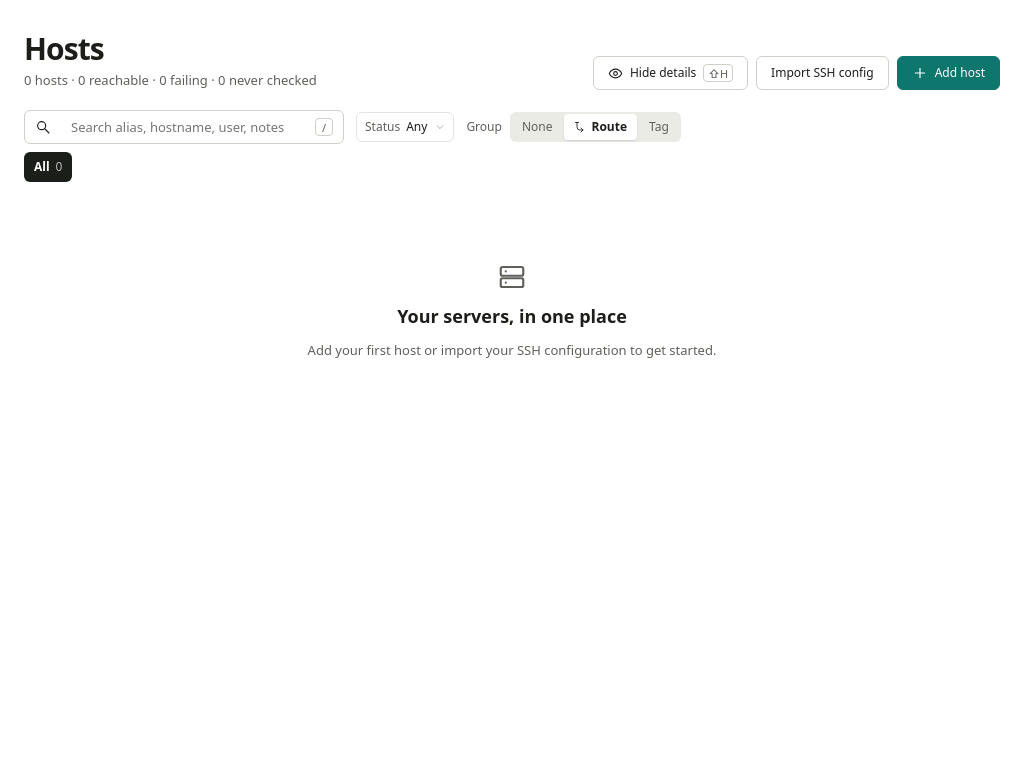
Test: shows authentication fallback warnings before the user applies an import
Click the button "Import SSH config".
click(822, 73)  # box [756, 56, 889, 90]
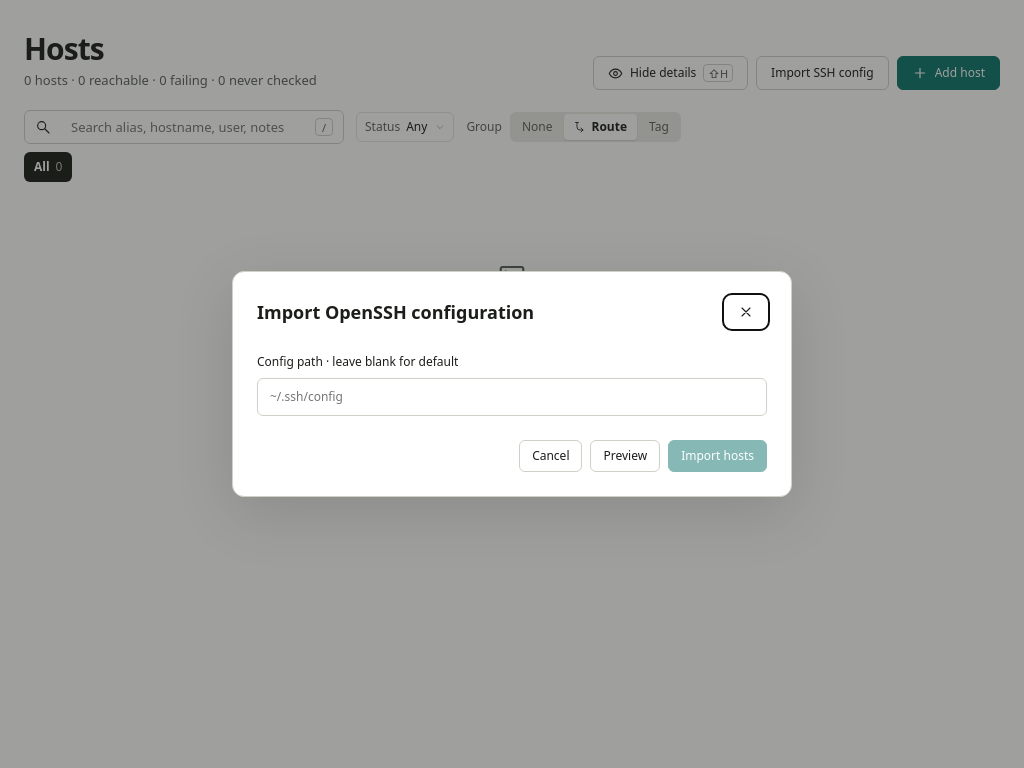
Click the button "Preview".
click(625, 456)  # box [590, 440, 660, 472]
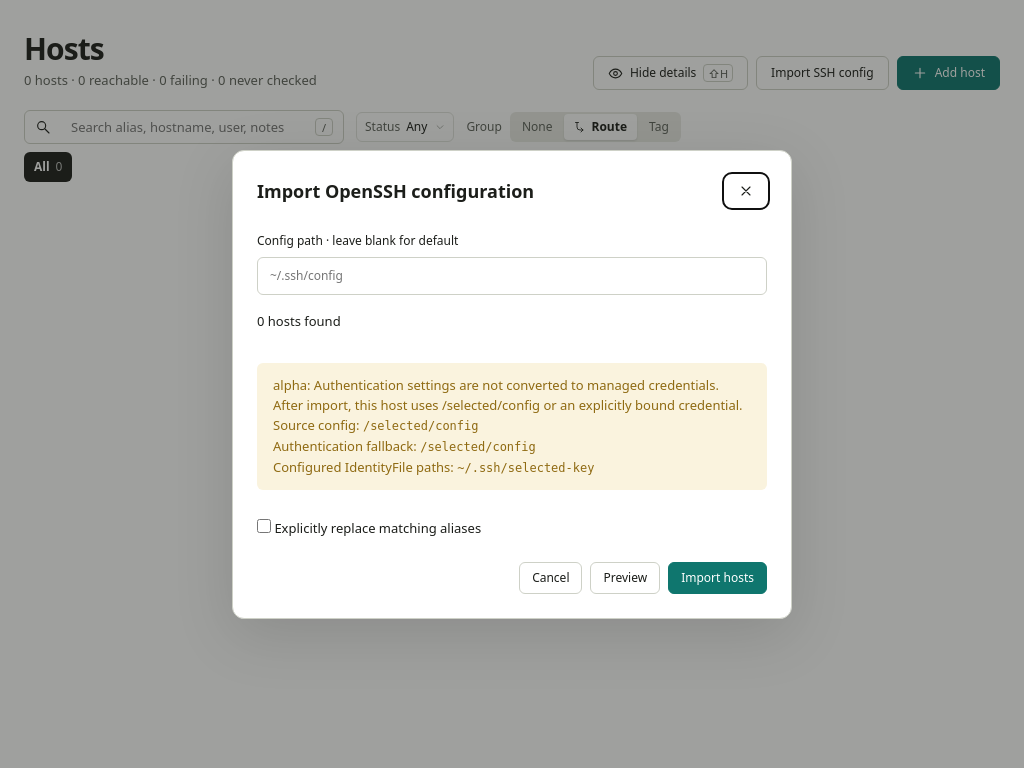
expect the text "~/.ssh/selected-key" is shown: met, box [457, 460, 594, 474]
expect the text "/selected/config" is shown 2 times: met, box [363, 418, 478, 432]; [420, 440, 536, 454]
